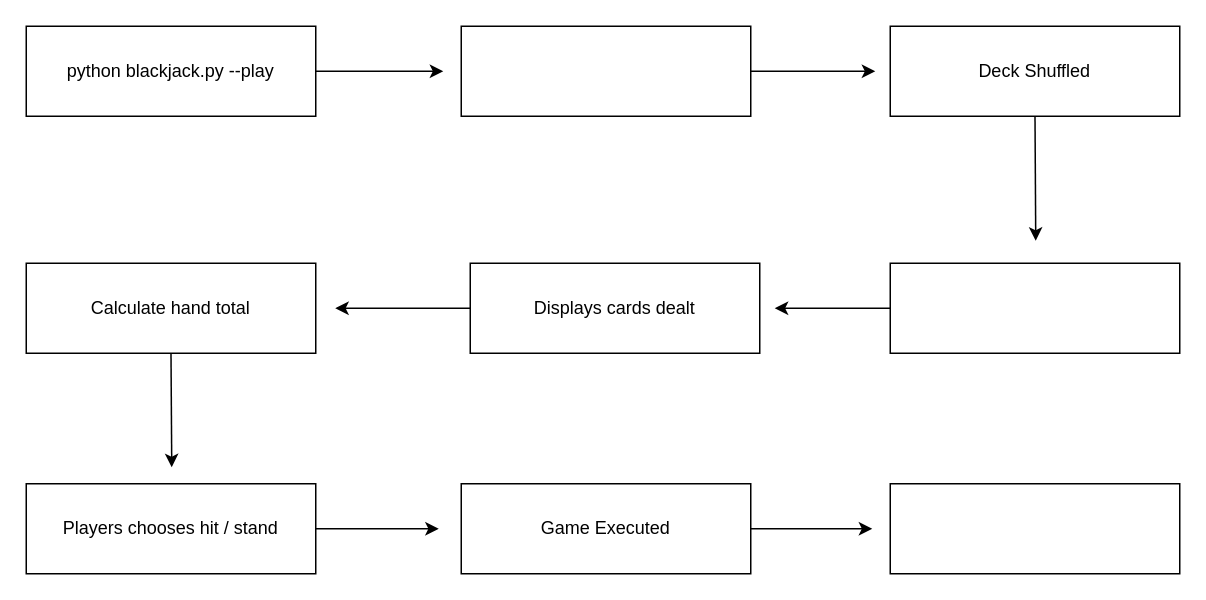
The diagram is 1206 pixels wide and 600 high, and some of its shapes have lost their labels. Each missing label, with the centre of its shape:
"Cards are dealt" goes at [1034,307].
"Enter player name" goes at [605,70].
"Game Recorded" goes at [1034,528].
